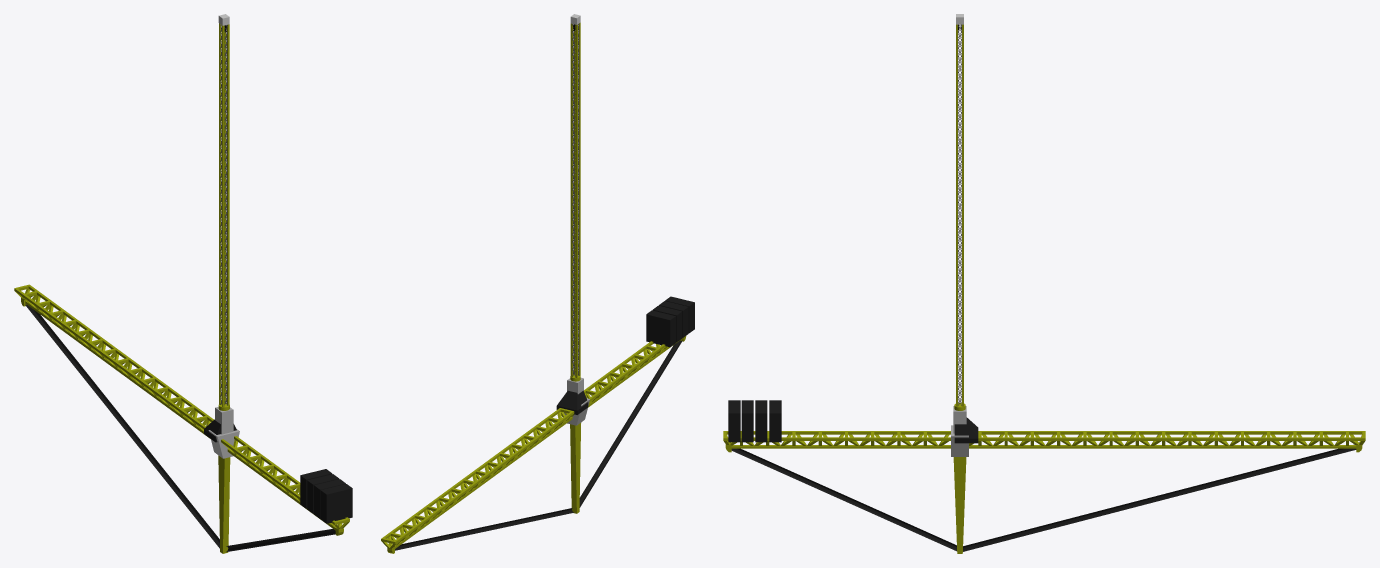
Rendered from towercrane.obj.
3 renders of one model, left to right at view 1: azimuth 30°, elevation 25°; view 2: azimuth 150°, elevation 25°; view 3: azimuth 270°, elevation 25°, orthographic. The views are drawn at different scales.
Parts seen in each view (by area): view 1: Top_Cylinder.002, Legs_Cylinder.001; view 2: Top_Cylinder.002, Legs_Cylinder.001, Rigging_Cube.002; view 3: Top_Cylinder.002, Legs_Cylinder.001.
Boxes of the visible parts, x1=… form: Top_Cylinder.002: x1=14, y1=284, x2=352, y2=553; Legs_Cylinder.001: x1=219, y1=23, x2=229, y2=407; Top_Cylinder.002: x1=381, y1=296, x2=694, y2=553; Legs_Cylinder.001: x1=570, y1=22, x2=580, y2=377; Rigging_Cube.002: x1=556, y1=390, x2=588, y2=414; Top_Cylinder.002: x1=723, y1=400, x2=1365, y2=553; Legs_Cylinder.001: x1=956, y1=24, x2=963, y2=406.
Size of the model in its own units: 3.72 by 73.33 by 79.48.
